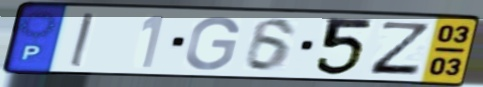1: (139, 14, 167, 69)
5: (313, 16, 379, 78)
6: (241, 17, 300, 73)
G: (183, 14, 242, 72)
I: (67, 11, 96, 69)
Z: (365, 20, 434, 77)
